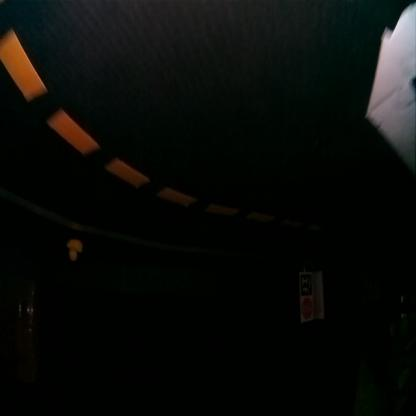Duckie: (66, 239, 82, 259)
QR code: (301, 274, 312, 296)
Stop sign: (302, 299, 314, 323)
